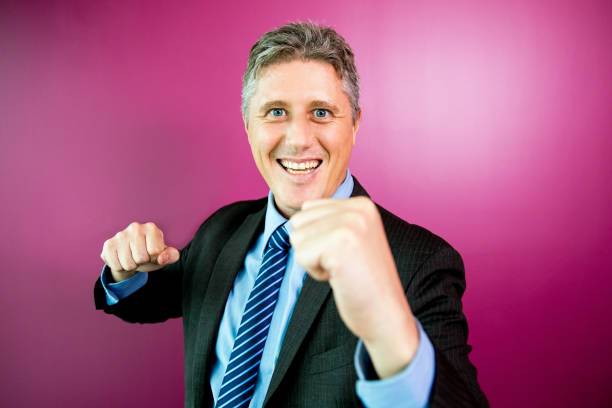Yes: (100, 219, 181, 279)
